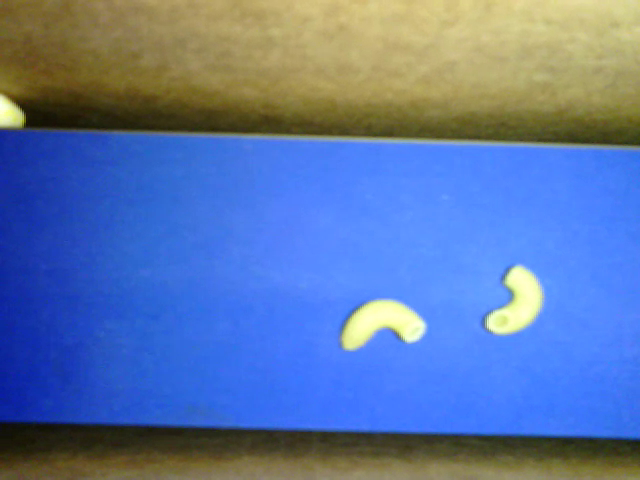elbow: (340, 297, 427, 350), (486, 263, 544, 333)
